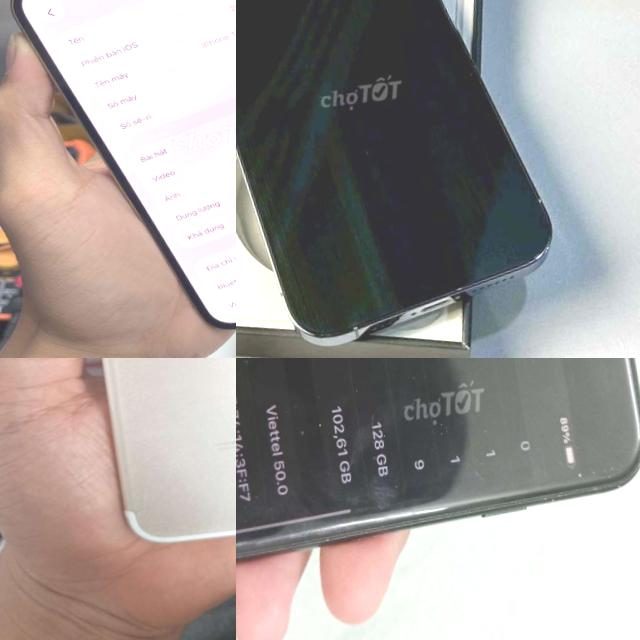scratch: (236, 507, 456, 556), (572, 460, 634, 488)
